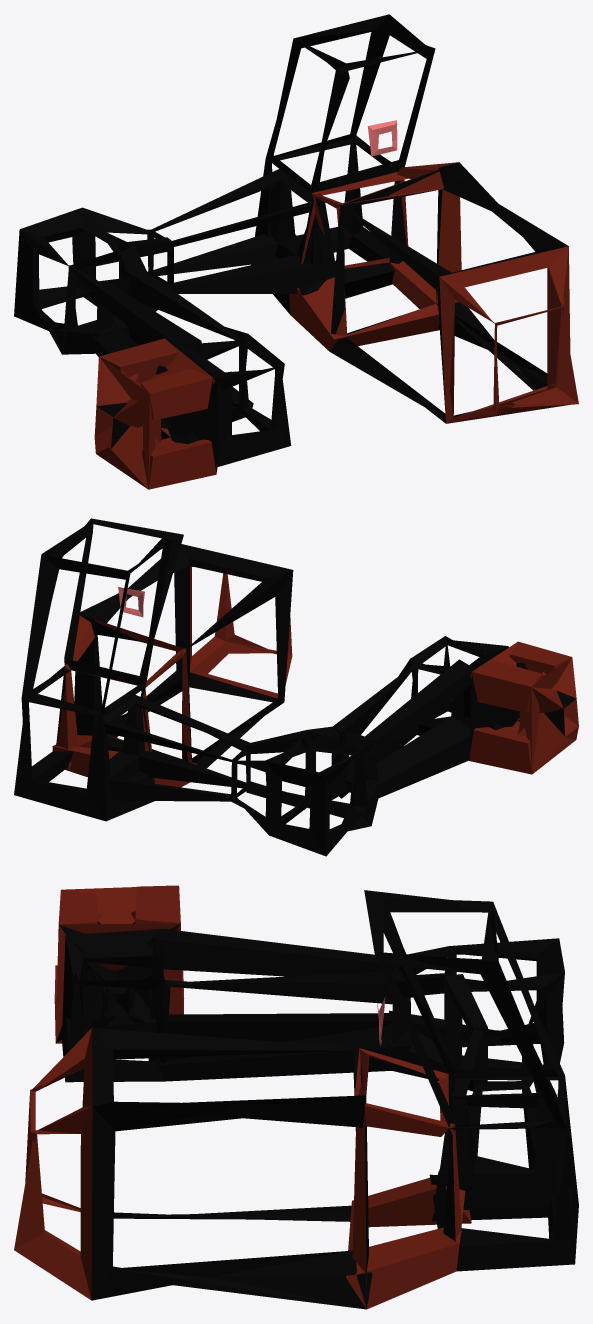
File: CurseRod_Reel.fbx
The picture shows the model from 3 angles, top to bottom: view 1: azimuth 30°, elevation 25°; view 2: azimuth 150°, elevation 25°; view 3: azimuth 270°, elevation 25°; orthographic projection. The views are drawn at different scales.
Visible parts, largest first — view 1: CurseRod_Reel; view 2: CurseRod_Reel; view 3: CurseRod_Reel.
Boxes of the visible parts, left/top/right/bottom form: CurseRod_Reel: left=14, top=14, right=578, bottom=489; CurseRod_Reel: left=14, top=518, right=578, bottom=856; CurseRod_Reel: left=14, top=885, right=578, bottom=1309.
Bounding box in the file's own units: 0.4698 × 0.2764 × 0.4086.
